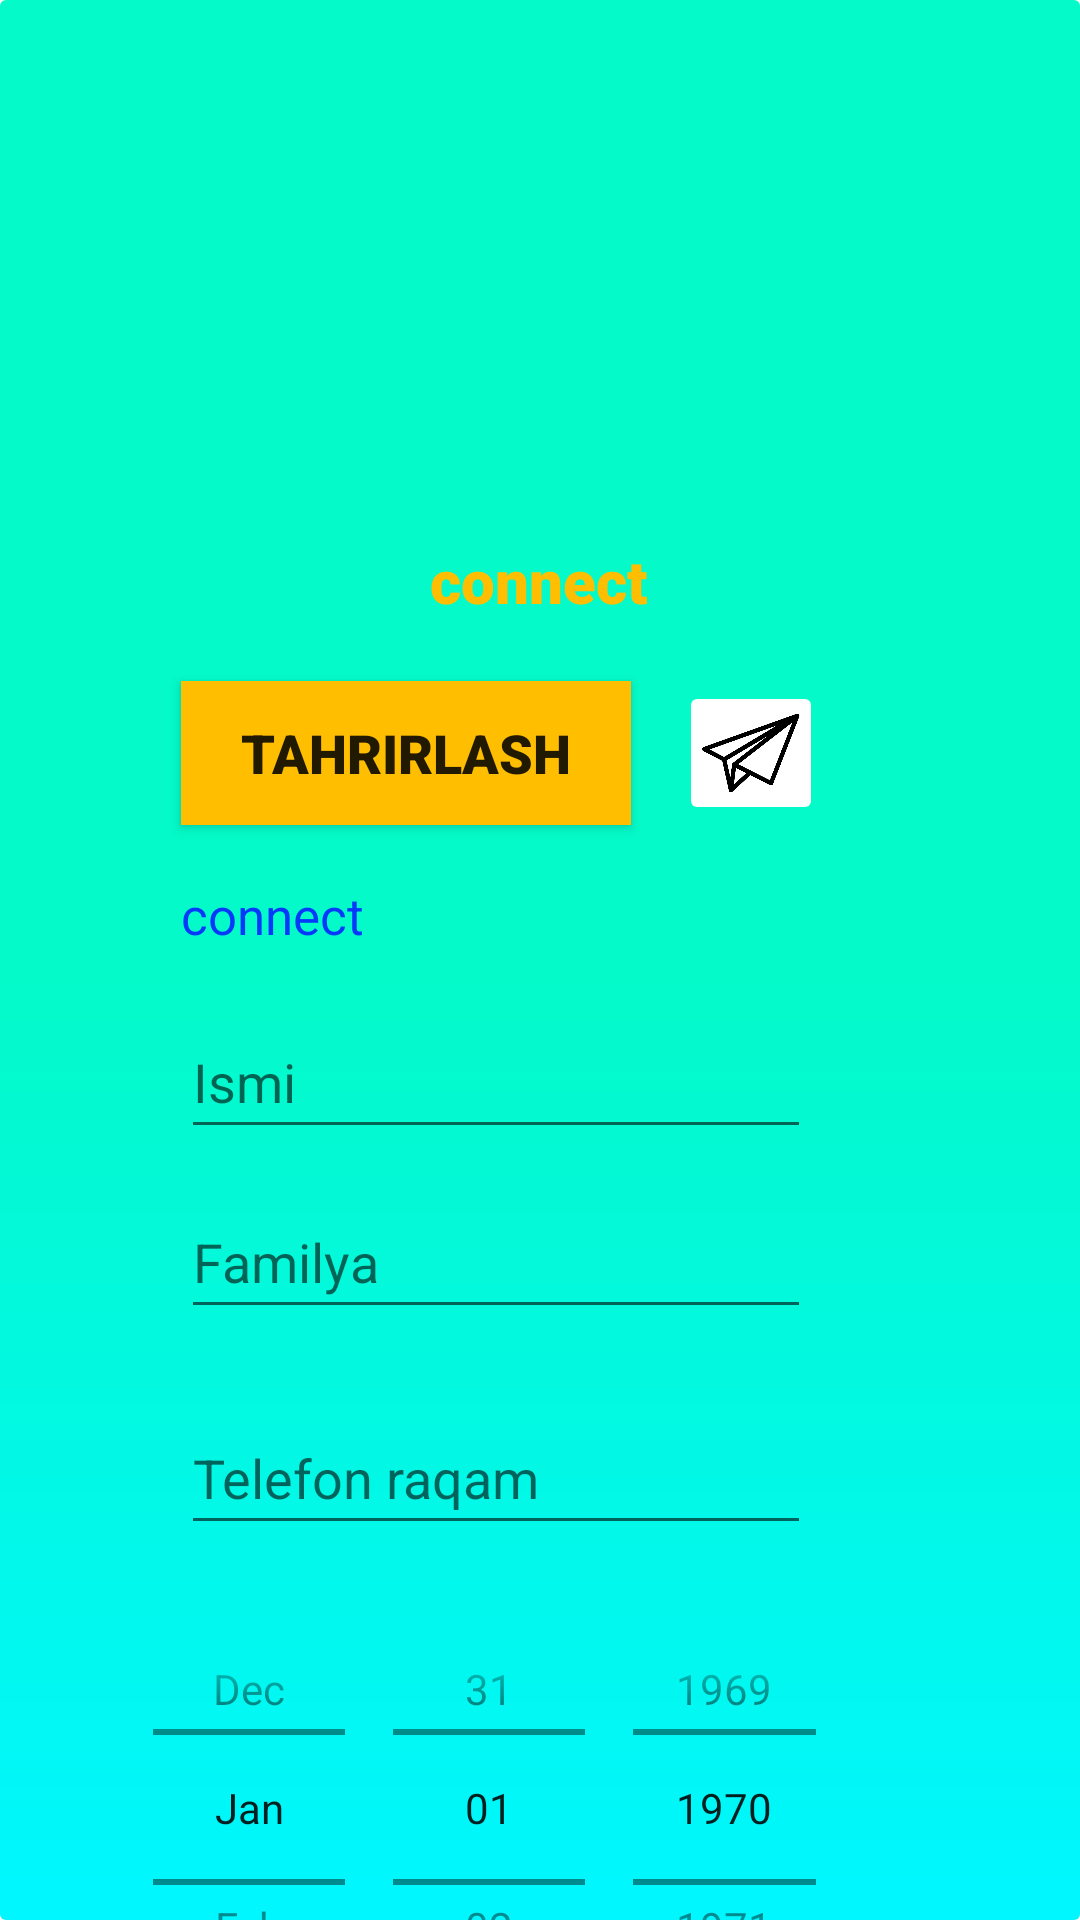

Named icons in this screenshot (1080w x 1920h) and their bounding boxes, region(x1, y1, x2, y2):
telegramicon: region(691, 699, 811, 807)
